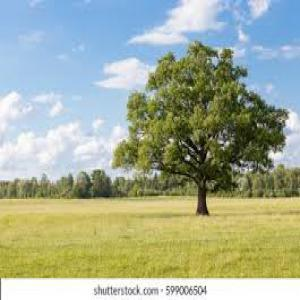Tree: (111, 35, 290, 218)
